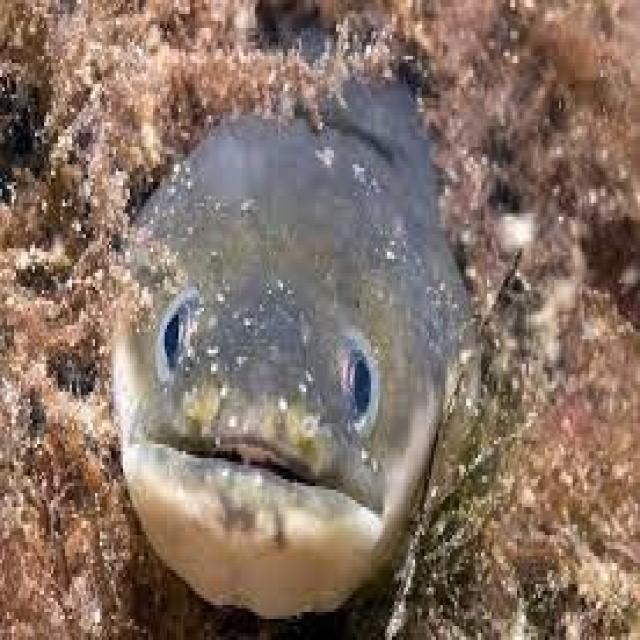Freshwater-Eel: (81, 48, 519, 640)
